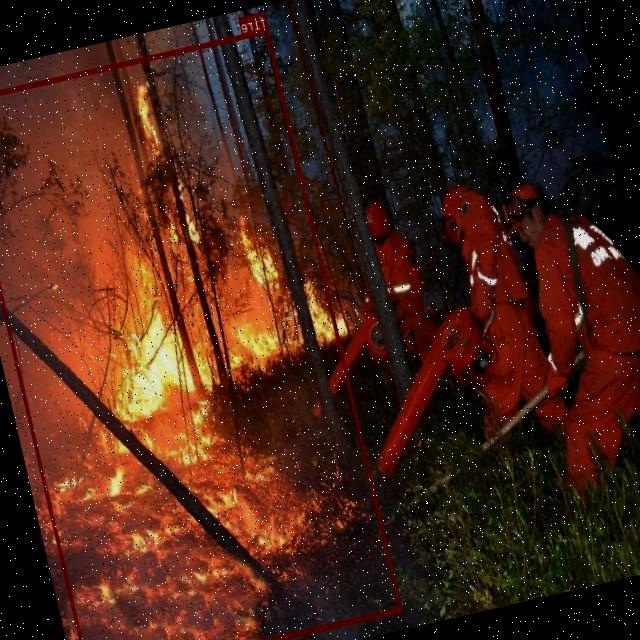fire: (0, 26, 403, 640)
